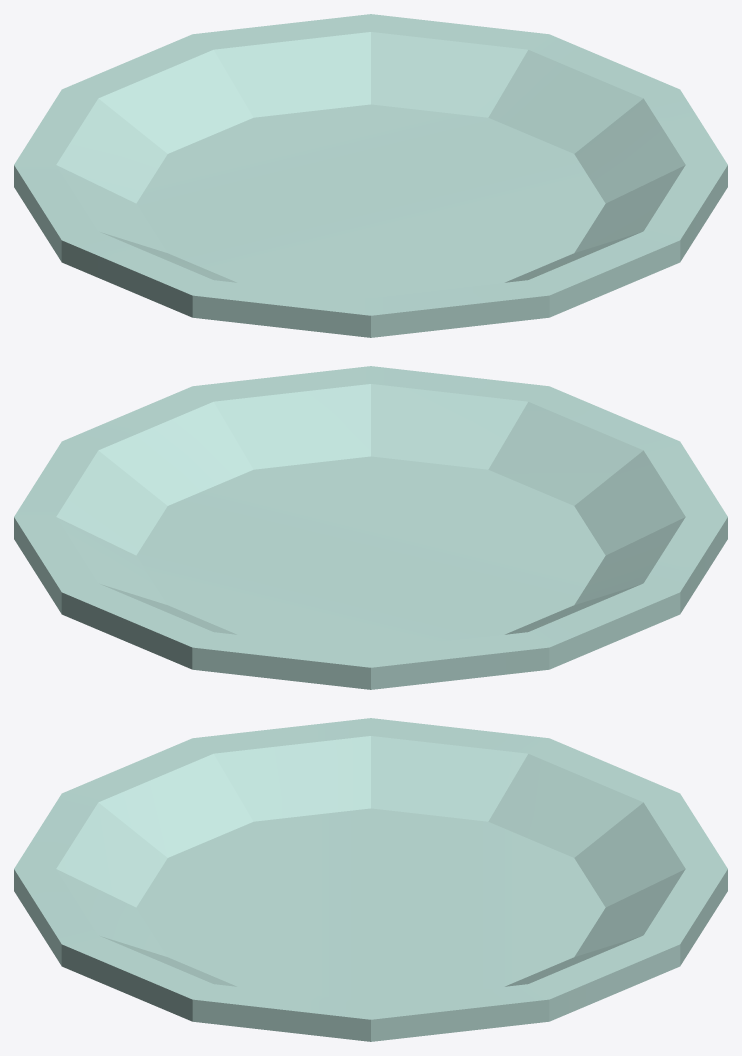
File: plate.fbx
3 renders of one model, top to bottom at view 1: azimuth 30°, elevation 25°; view 2: azimuth 150°, elevation 25°; view 3: azimuth 270°, elevation 25°, orthographic.
Parts seen in each view (by area): view 1: Cylinder.006; view 2: Cylinder.006; view 3: Cylinder.006.
Part boxes in pixels (<box>): Cylinder.006: <box>14,14,727,337</box>; Cylinder.006: <box>14,366,727,689</box>; Cylinder.006: <box>14,718,727,1041</box>.
Bounding box in the file's own units: 77.29 × 7.27 × 77.29.
